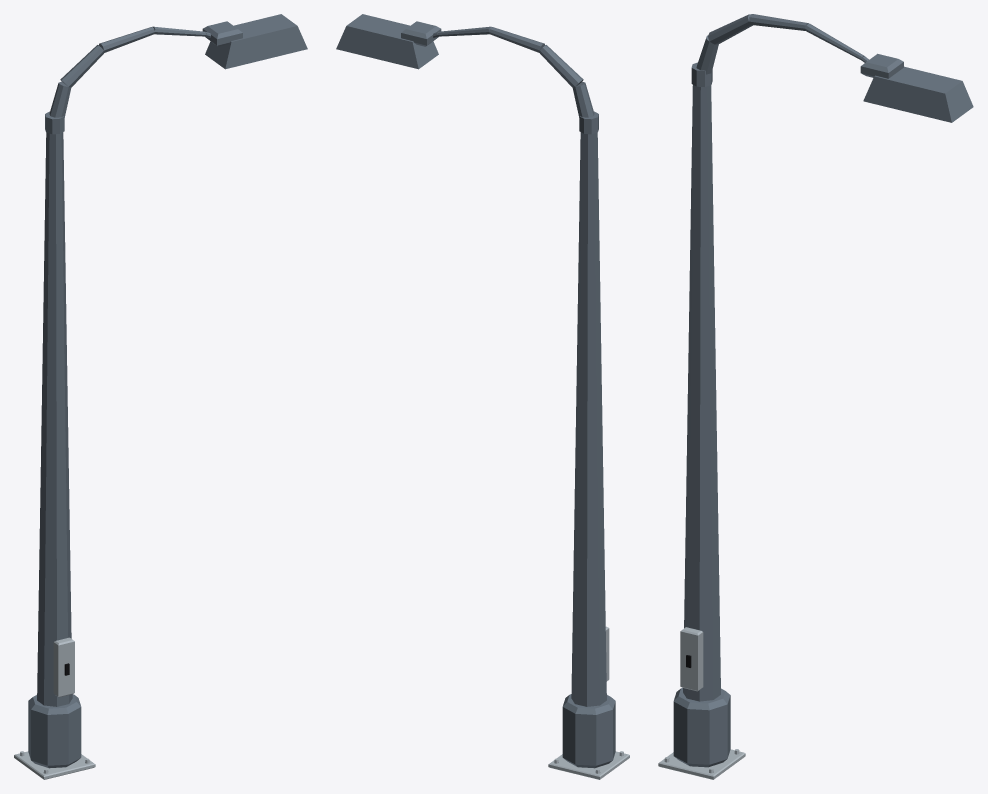
The model's file is PROP_03.obj.
The picture shows the model from 3 angles, left to right: view 1: azimuth 30°, elevation 25°; view 2: azimuth 150°, elevation 25°; view 3: azimuth 330°, elevation 25°; orthographic projection. The views are drawn at different scales.
Parts seen in each view (by area): view 1: PROP_03__post, PROP_03__luminaire, PROP_03__arm, PROP_03__handhole, PROP_03__base; view 2: PROP_03__post, PROP_03__luminaire, PROP_03__arm, PROP_03__base; view 3: PROP_03__post, PROP_03__luminaire, PROP_03__arm, PROP_03__handhole, PROP_03__base.
Boxes of the visible parts, left/top/right/bottom form: PROP_03__post: left=28, top=112, right=81, bottom=768; PROP_03__luminaire: left=202, top=14, right=307, bottom=69; PROP_03__arm: left=45, top=26, right=210, bottom=134; PROP_03__handhole: left=53, top=637, right=74, bottom=697; PROP_03__base: left=14, top=751, right=95, bottom=779; PROP_03__post: left=562, top=112, right=615, bottom=768; PROP_03__luminaire: left=336, top=14, right=441, bottom=69; PROP_03__arm: left=433, top=26, right=598, bottom=134; PROP_03__base: left=548, top=751, right=629, bottom=779; PROP_03__post: left=673, top=63, right=730, bottom=767; PROP_03__luminaire: left=860, top=53, right=973, bottom=122; PROP_03__arm: left=691, top=14, right=868, bottom=86; PROP_03__handhole: left=680, top=627, right=703, bottom=691; PROP_03__base: left=658, top=749, right=745, bottom=779.
Size of the model in its own units: 2.6 by 6.58 by 0.5.
